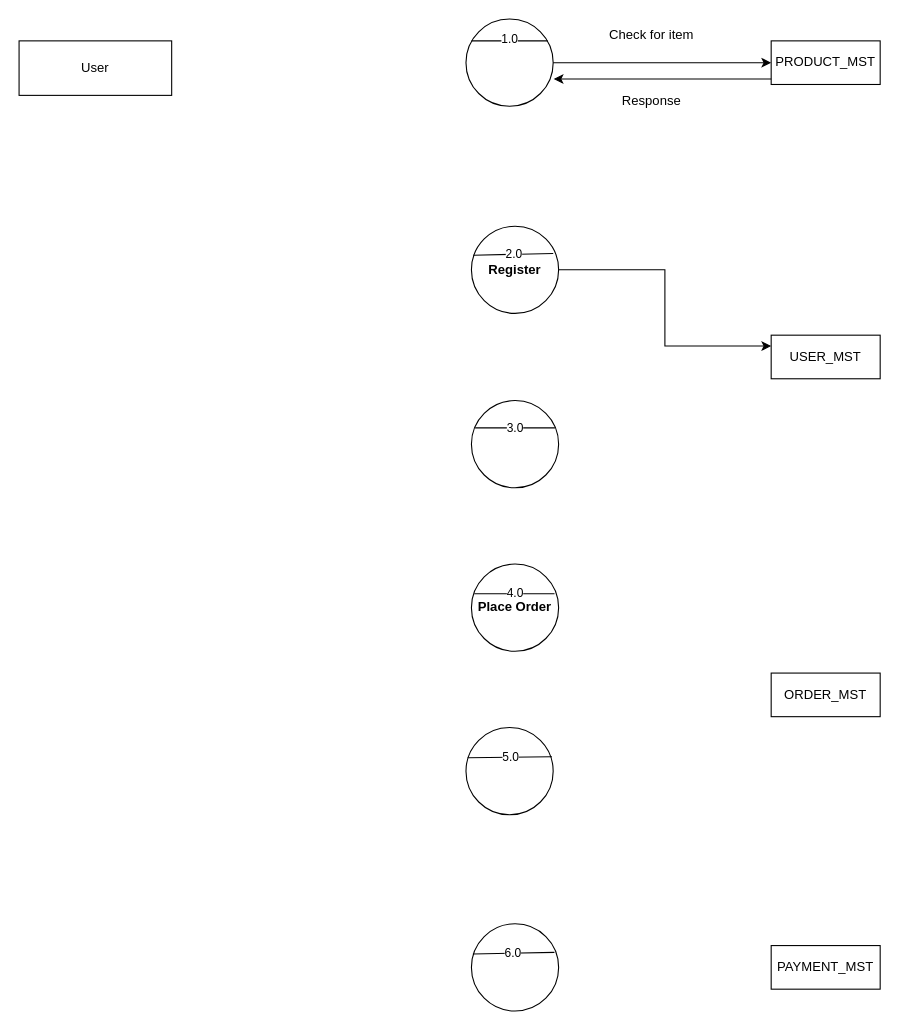
This 899x1030 diagram has some shape labels left out. The centre of each missing label's shape, as x and y in pixels:
"Add to Cart" belongs at (x=509, y=770).
"Login" belongs at (x=514, y=443).
"Payment" belongs at (x=514, y=967).
"Show/Search Item" belongs at (x=509, y=62).
